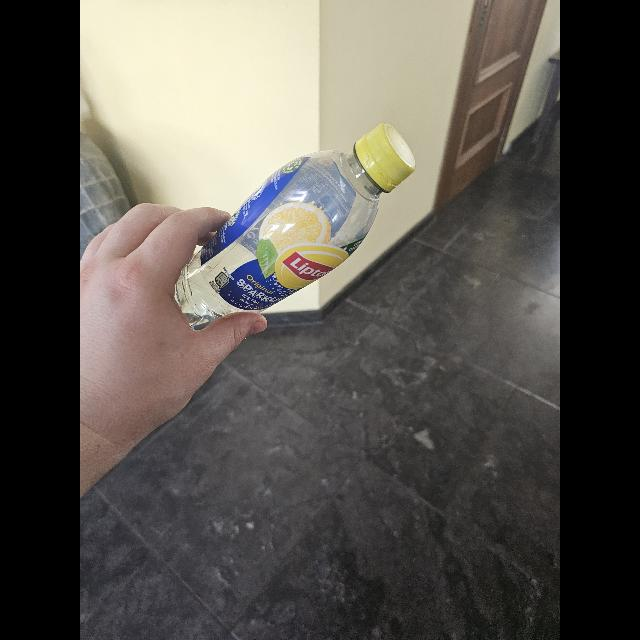Plastic: (174, 121, 418, 332)
